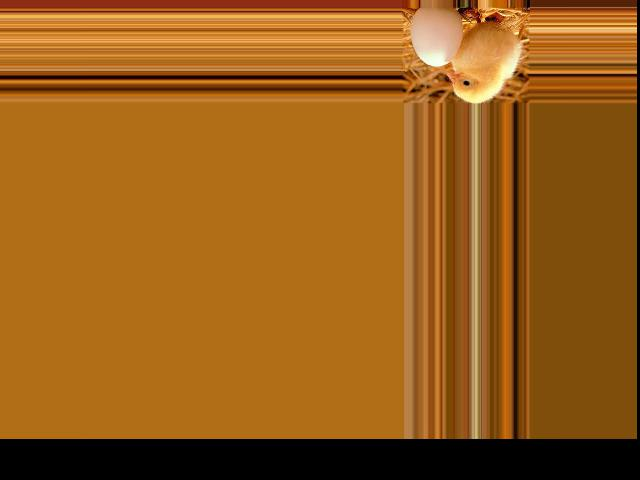egg: (411, 6, 463, 66)
